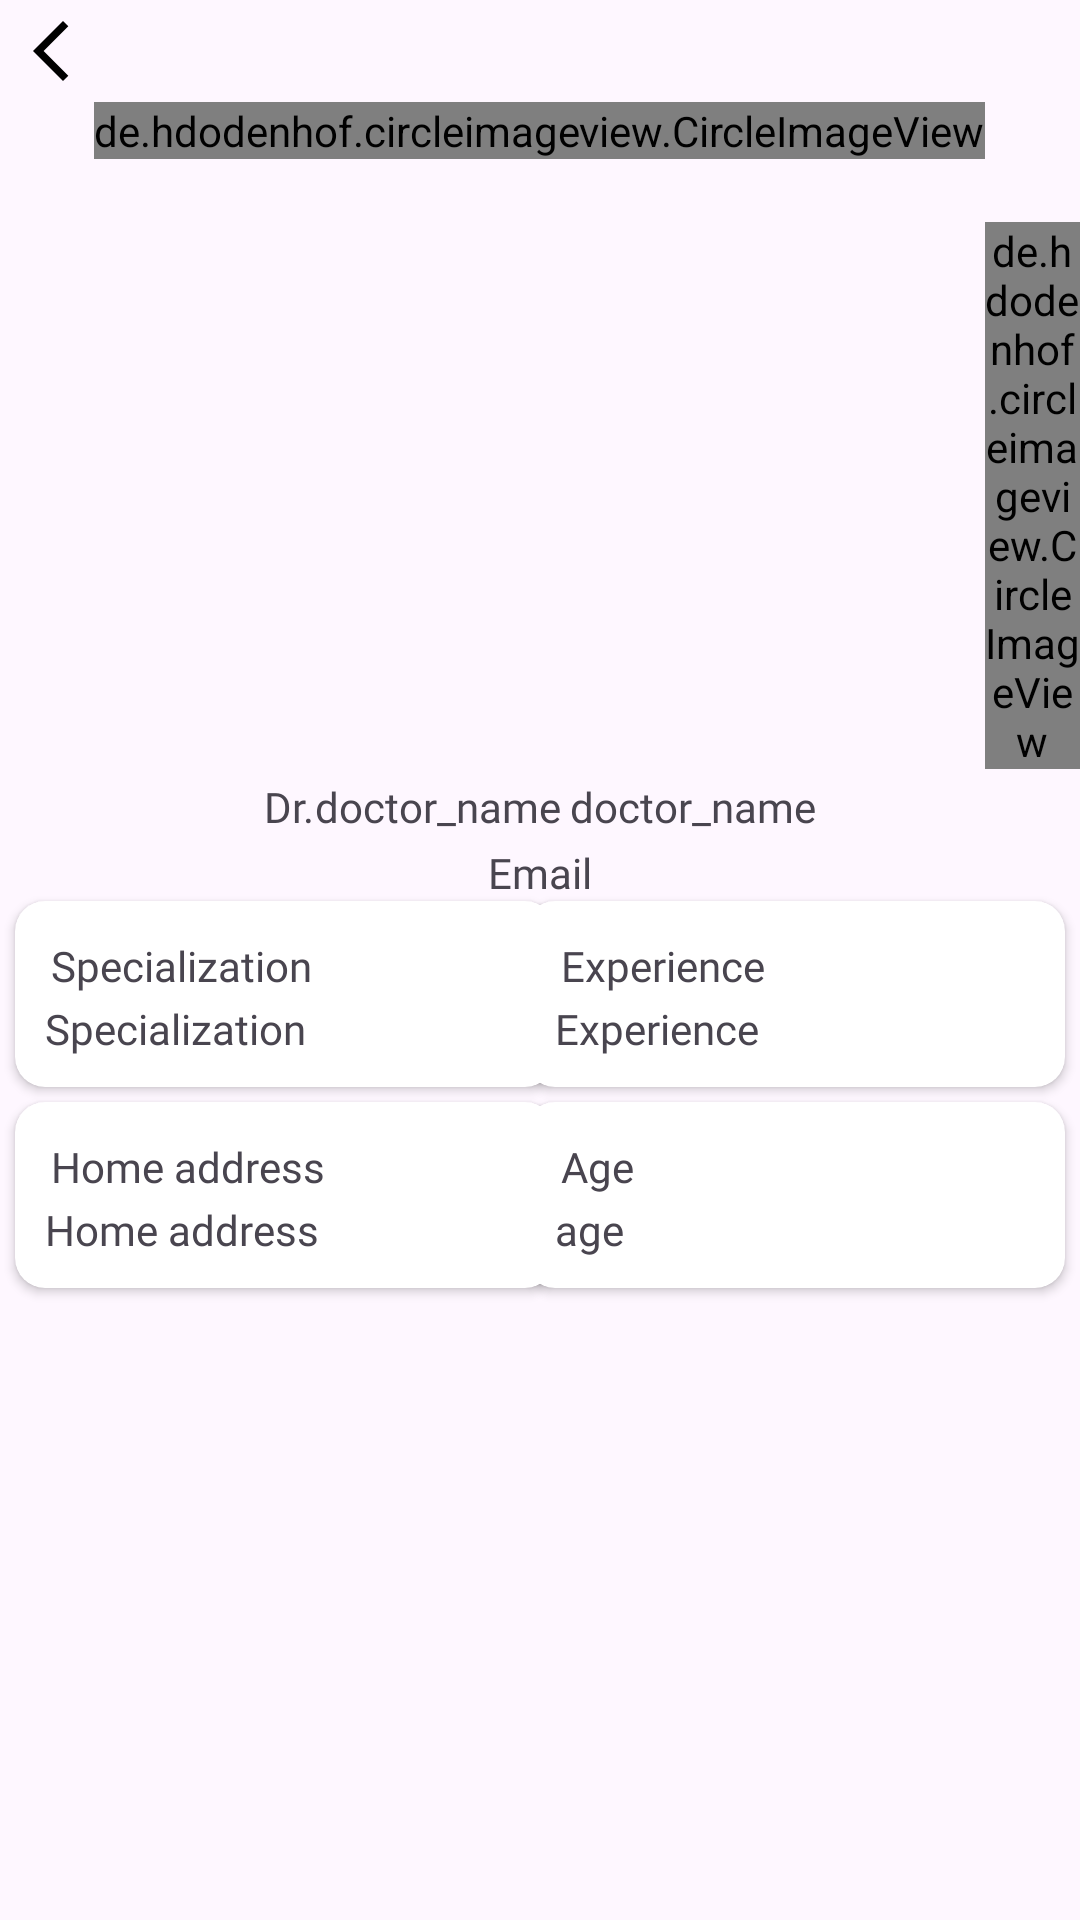

Where to tap for icons on this 1080 x 1920 app screen, as point (x, y):
back button: point (50, 51)
